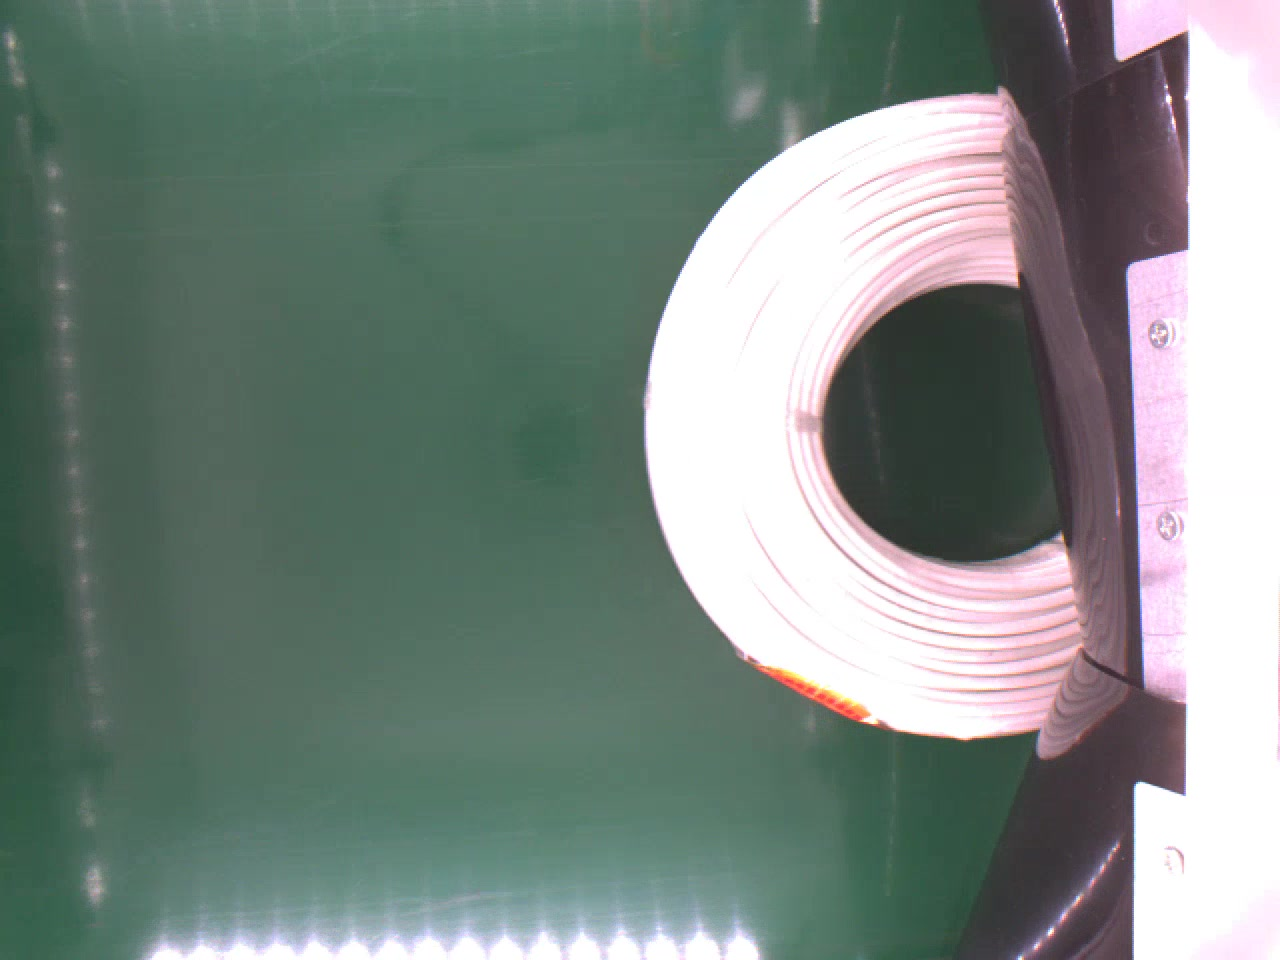white: (634, 87, 1083, 741)
